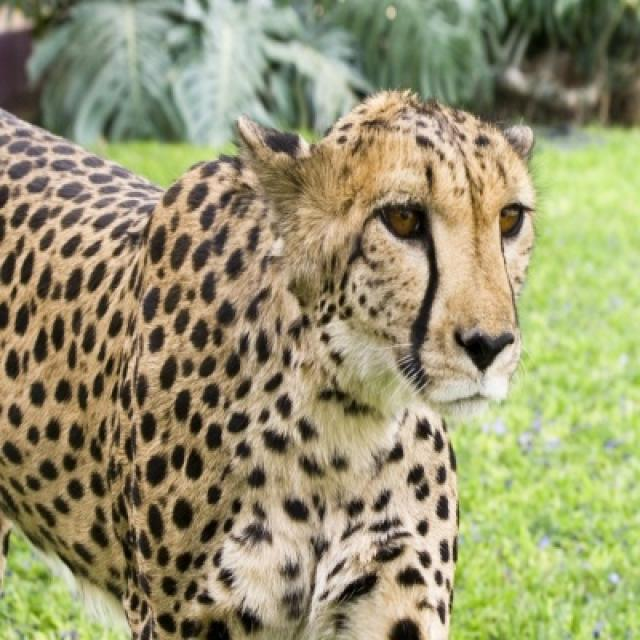Cheetah: (0, 82, 543, 638)
